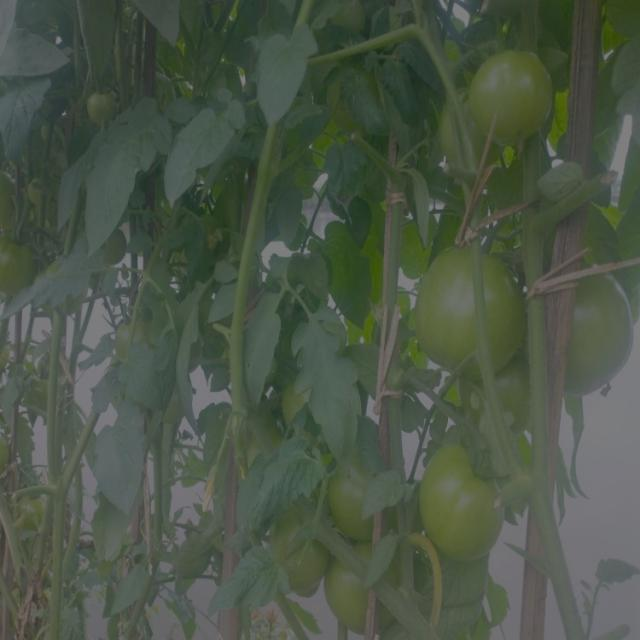tomato: (413, 237, 524, 373), (424, 452, 503, 558), (469, 46, 552, 136), (573, 271, 633, 379), (331, 61, 384, 132), (334, 466, 384, 538), (330, 567, 373, 633), (294, 533, 333, 591), (272, 368, 311, 420), (1, 235, 34, 294), (81, 87, 122, 131), (269, 516, 305, 556), (116, 315, 142, 369)
